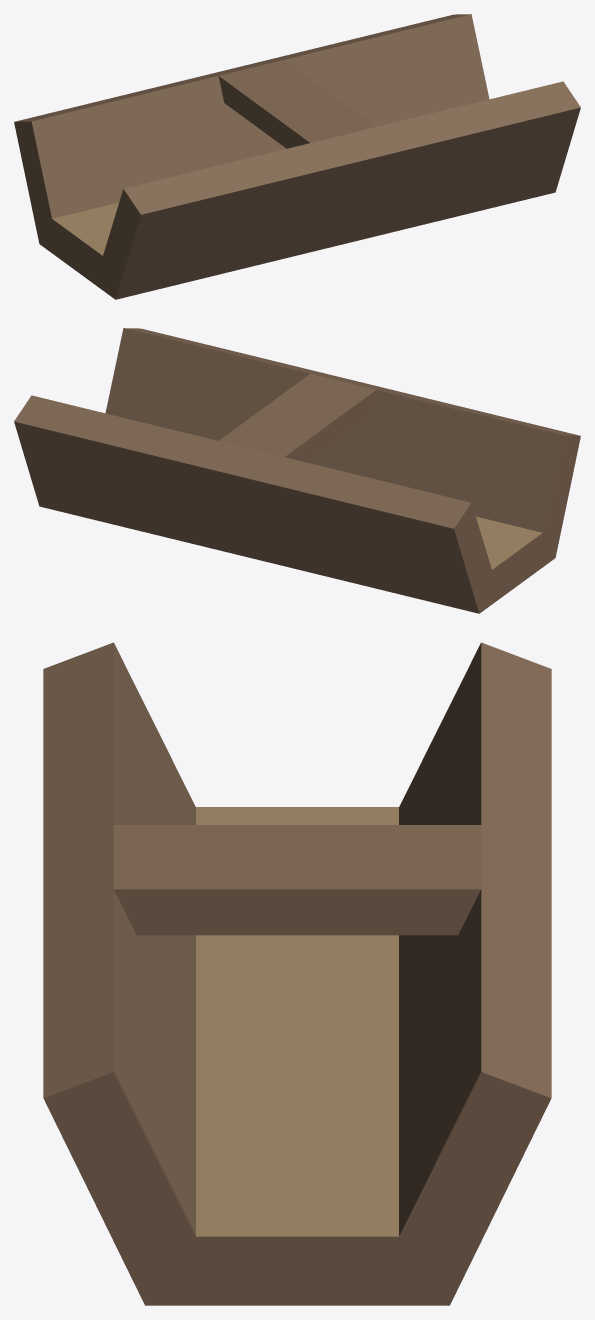
The model's file is Waterwheel_Flume_Straight.obj.
3 views of the same model, one above another, from view 1: azimuth 30°, elevation 25°; view 2: azimuth 150°, elevation 25°; view 3: azimuth 270°, elevation 25° (orthographic). The views are drawn at different scales.
Parts seen in each view (by area): view 1: flume_straight; view 2: flume_straight; view 3: flume_straight.
Part boxes in pixels (x1,y1,x2,y2): flume_straight: (14,14,580,299); flume_straight: (14,328,580,613); flume_straight: (43,642,551,1305).
Bounding box in the file's own units: 1 × 0.2538 × 0.5.
